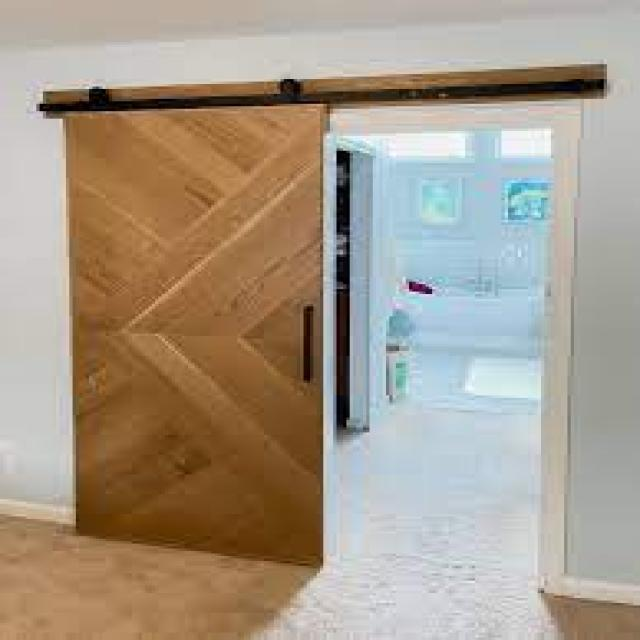Woods: (63, 104, 327, 566)
